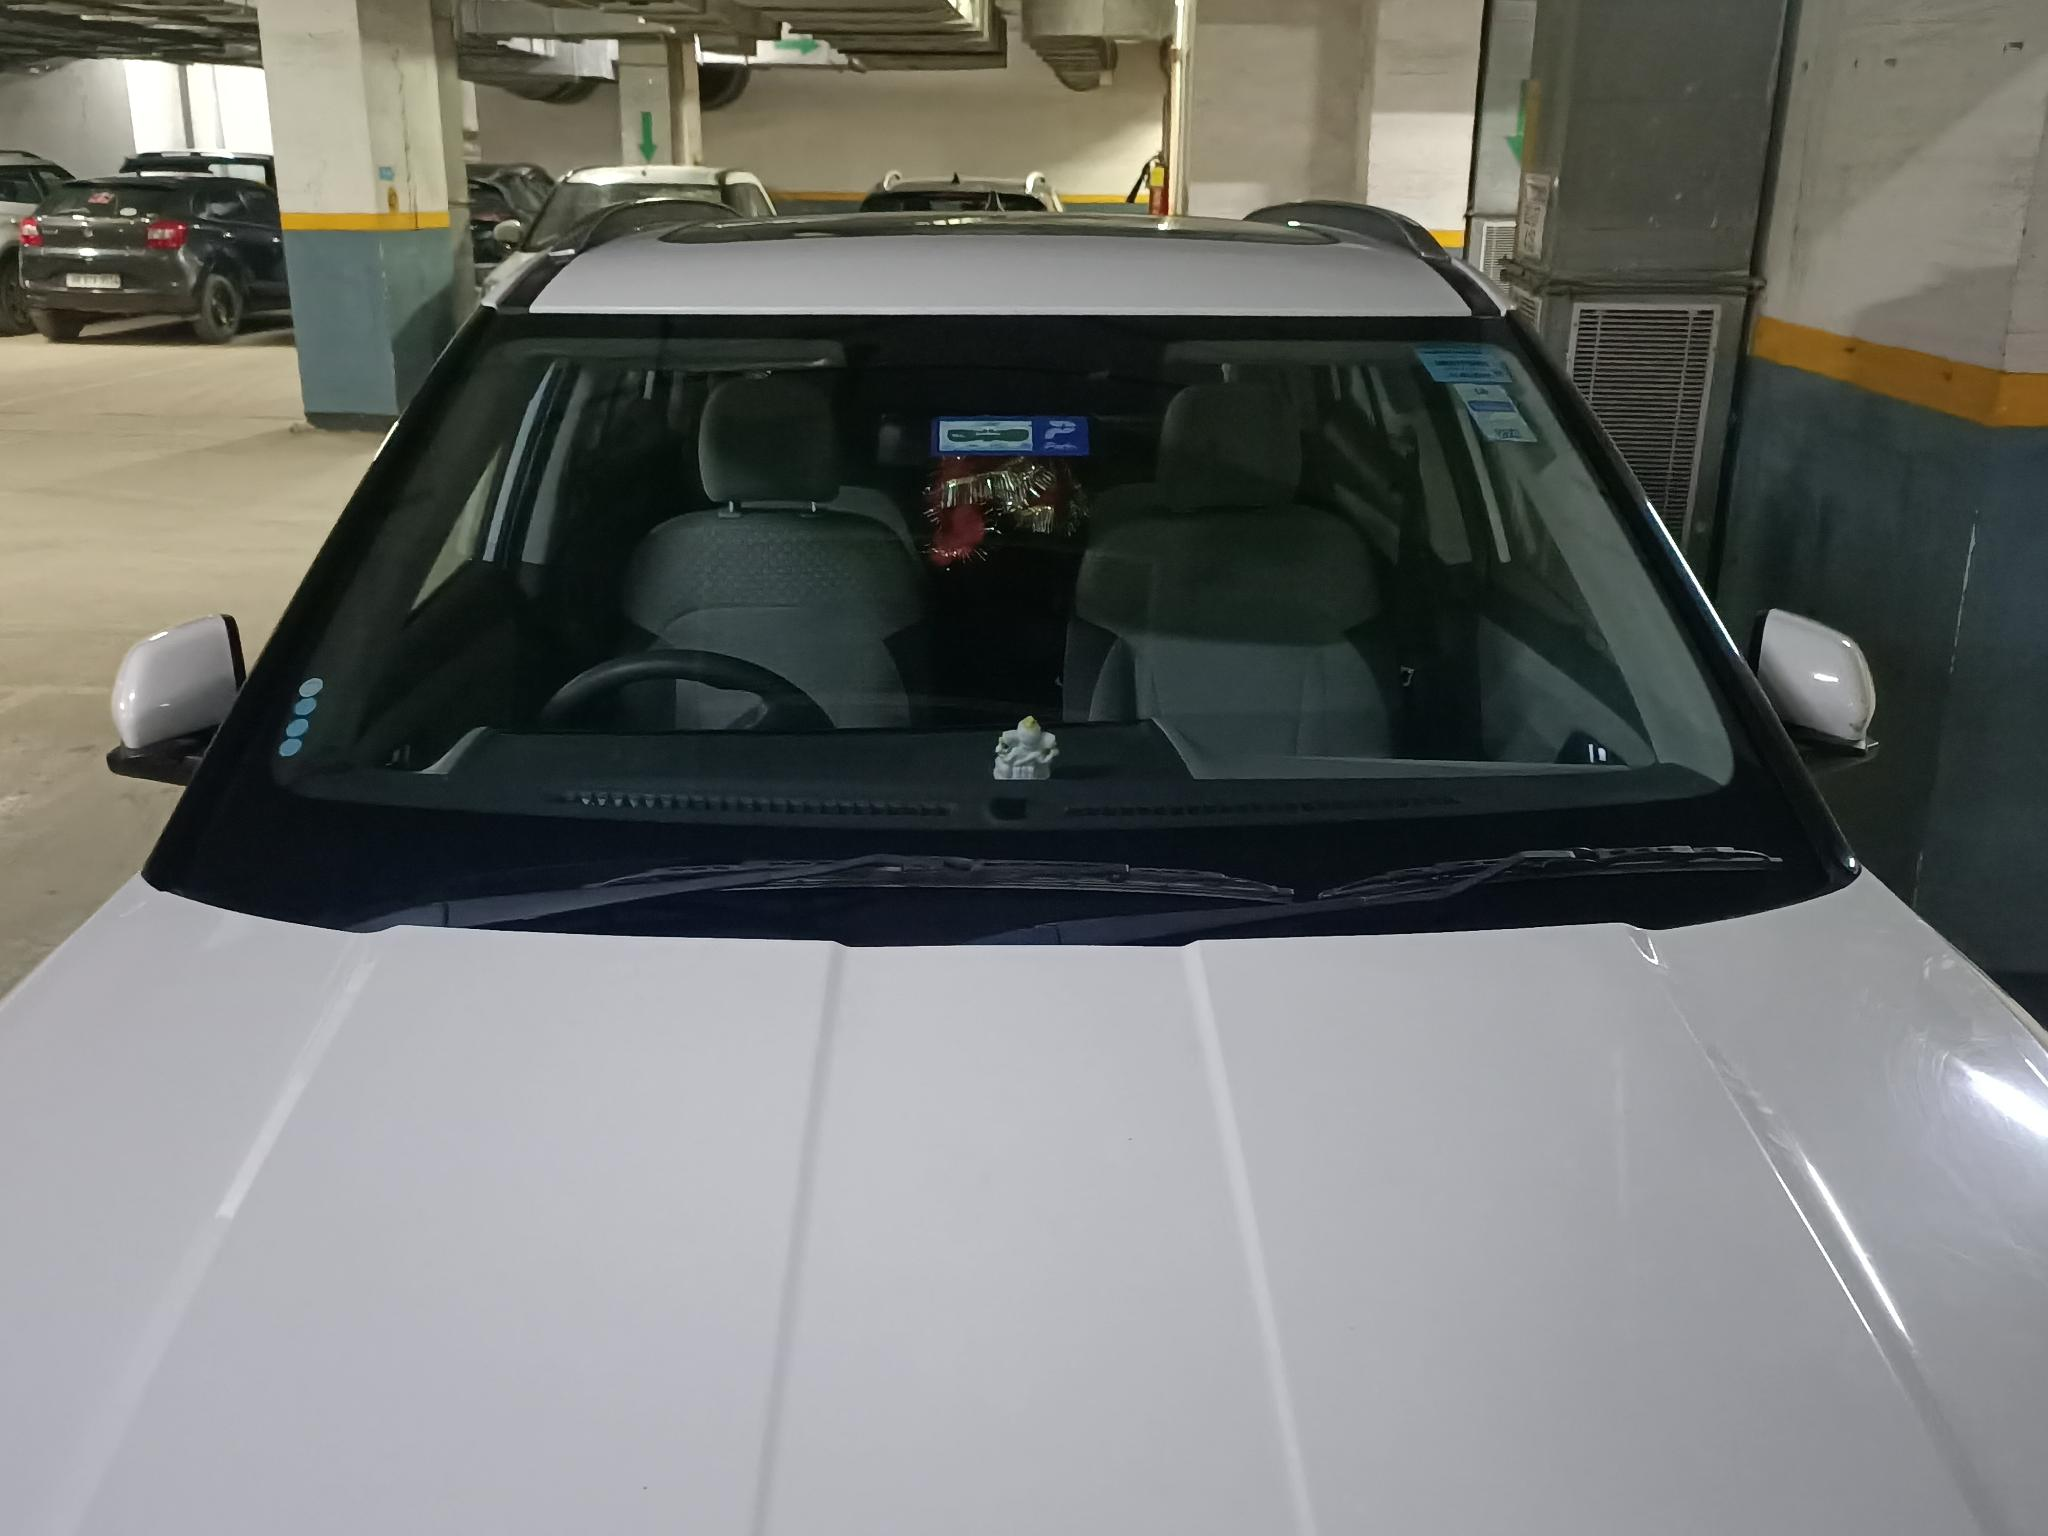FastTag: (916, 389, 1066, 479)
not a FastTag: (1446, 374, 1556, 444)
